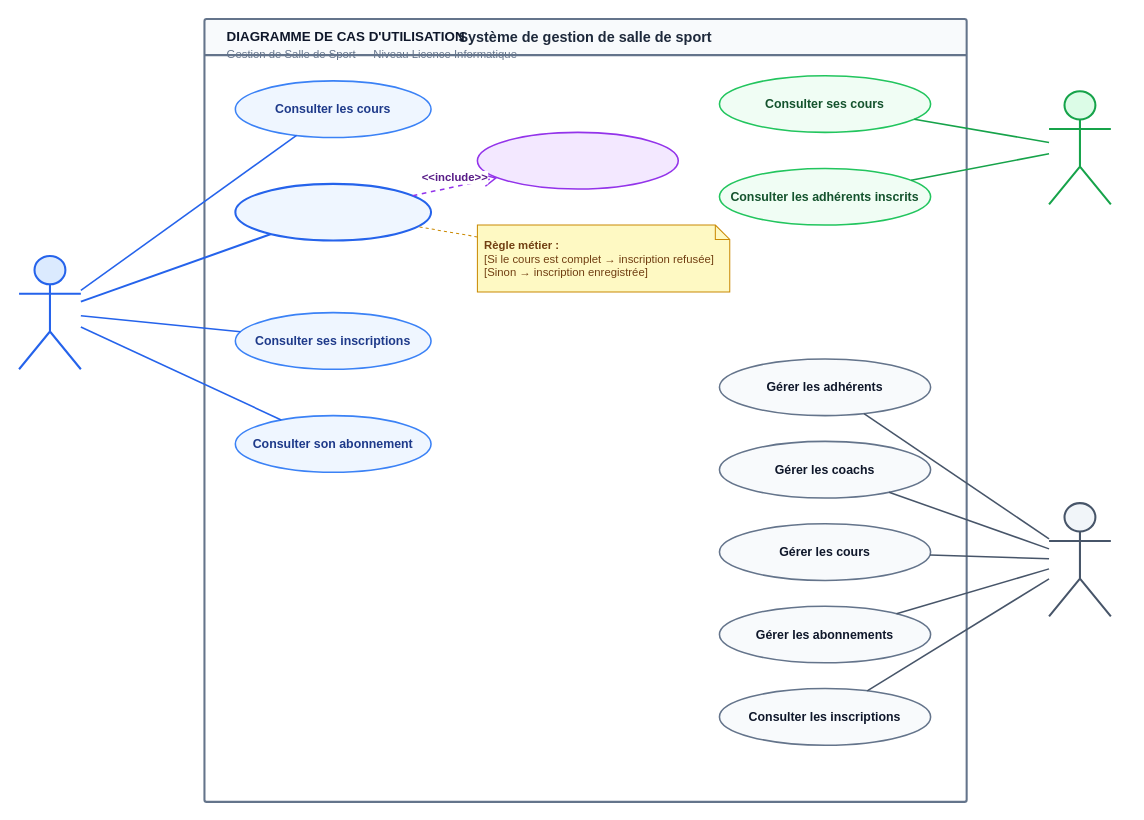
The diagram is 1144 pixels wide and 820 high, and some of its shapes have lost their labels. The shapes that lost their labels are listed below. From the top down, each one's box as (x1, y1, x2, y2) in pixels, then its label:
(476, 131, 679, 189): Vérifier la capacité disponible
(1048, 90, 1111, 205): Coach
(234, 182, 432, 241): S'inscrire à un cours
(18, 254, 81, 370): Adhérent
(1048, 502, 1111, 617): Administrateur
